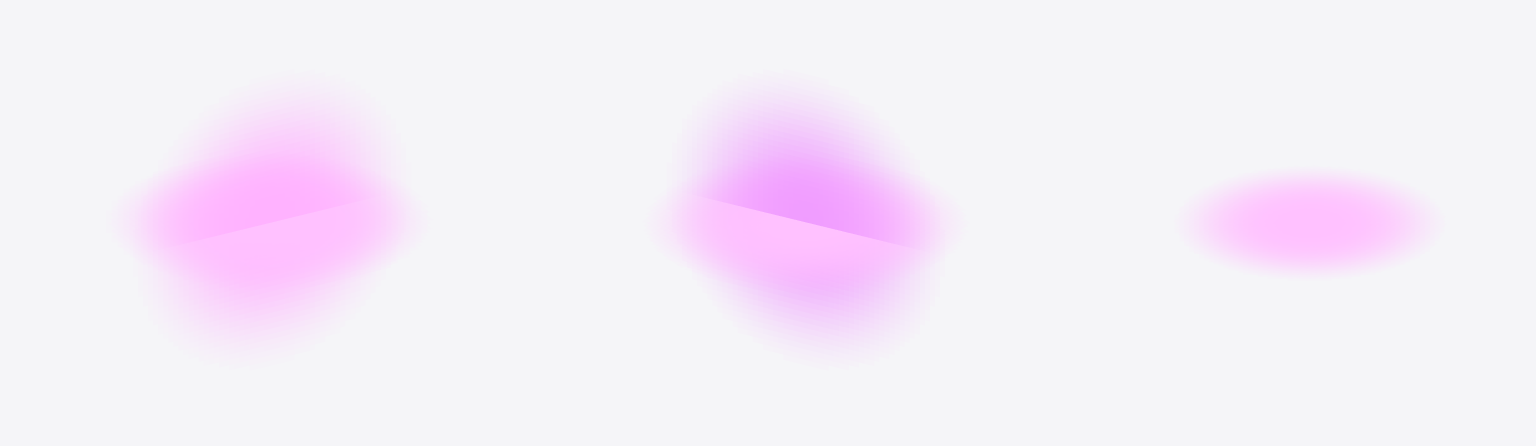
The model's file is blossom.glb.
3 renders of one model, left to right at view 1: azimuth 30°, elevation 25°; view 2: azimuth 150°, elevation 25°; view 3: azimuth 270°, elevation 25°, orthographic. The views are drawn at different scales.
Visible parts, largest first — view 1: blossom; view 2: blossom; view 3: blossom.
Part boxes in pixels (<box>): blossom: <box>118,90,417,348</box>; blossom: <box>657,90,955,348</box>; blossom: <box>1184,170,1434,276</box>.
Size of the model in its own units: 0.3825 by 0.28 by 0.3825.
1 material, 1 textured.
